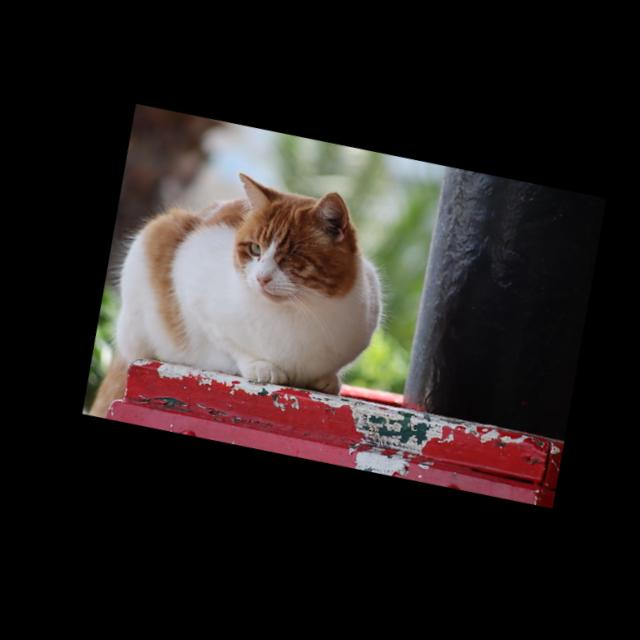animals: (89, 145, 406, 416)
